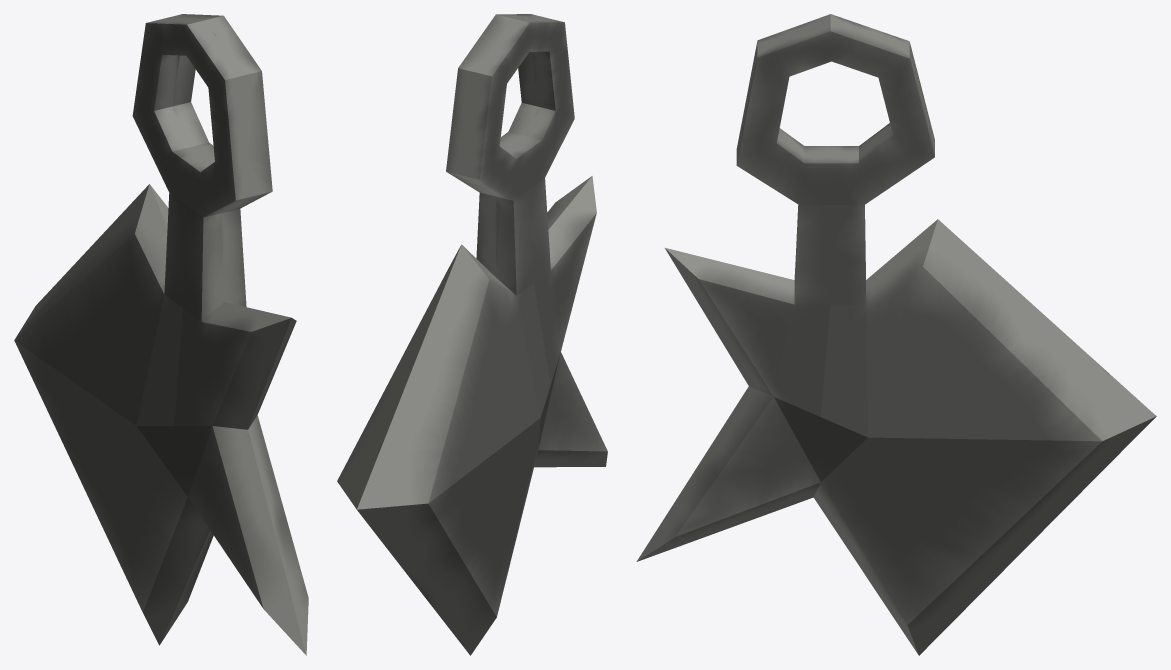
The model's file is ThrowingAxe.glb.
3 views of the same model, side by side, from view 1: azimuth 30°, elevation 25°; view 2: azimuth 150°, elevation 25°; view 3: azimuth 270°, elevation 25° (orthographic). The views are drawn at different scales.
Parts seen in each view (by area): view 1: ThrowingAxe; view 2: ThrowingAxe; view 3: ThrowingAxe.
Boxes of the visible parts, x1,y1,x2,y2 form: ThrowingAxe: (14, 14, 308, 655); ThrowingAxe: (337, 14, 607, 655); ThrowingAxe: (636, 14, 1156, 655).
Bounding box in the file's own units: 0.3028 × 1.92 × 1.43.
Materials: 1 (1 with a texture image).
